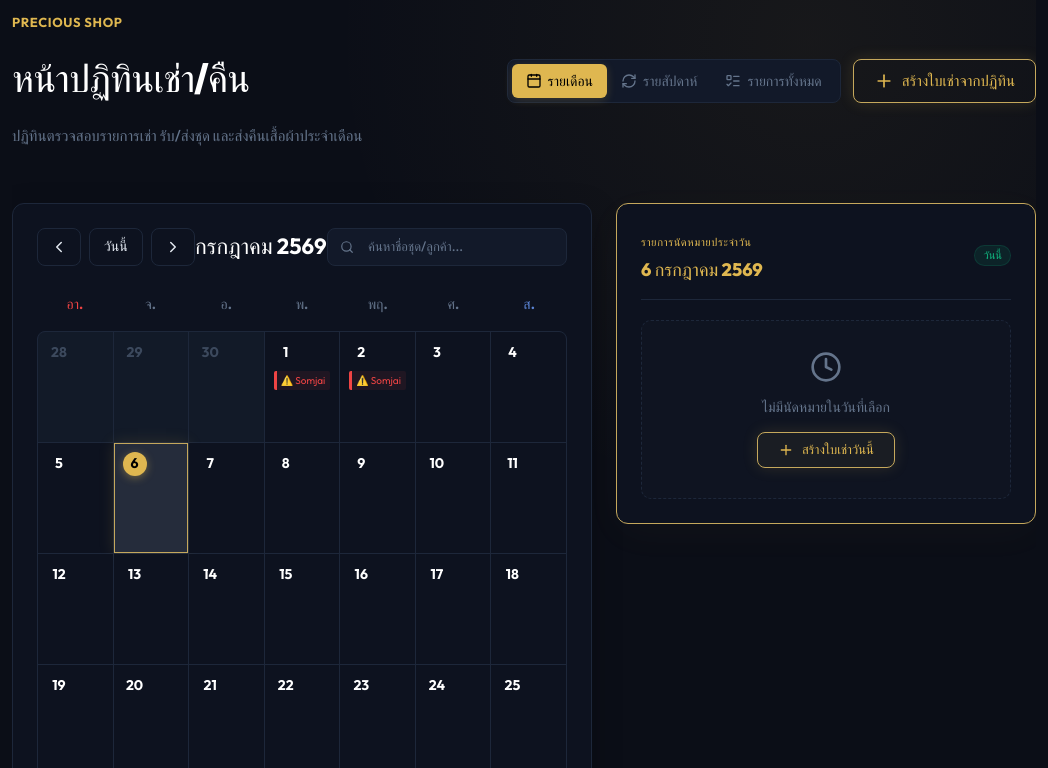
Test: CalendarPage › shows overdue status in the all-rentals list for active rentals past return date
Click the button "รายการทั้งหมด": (774, 81) [711,64,836,98]
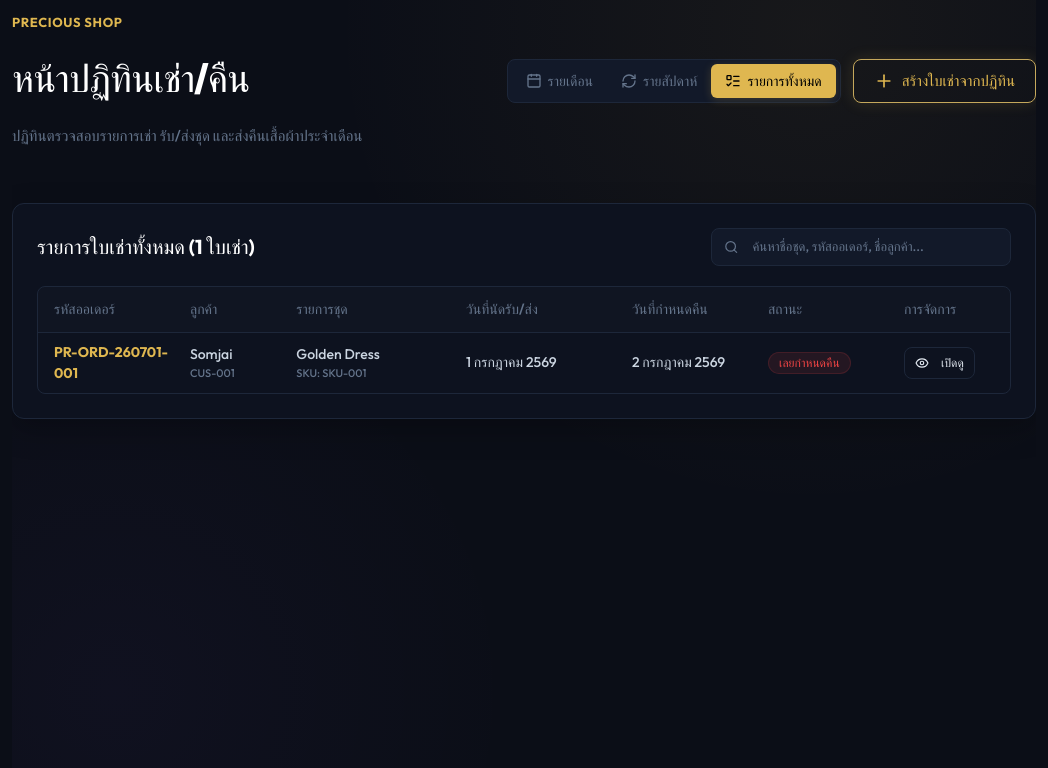
Result: the text "เลยกำหนดคืน" is shown at [768,352,851,374]
